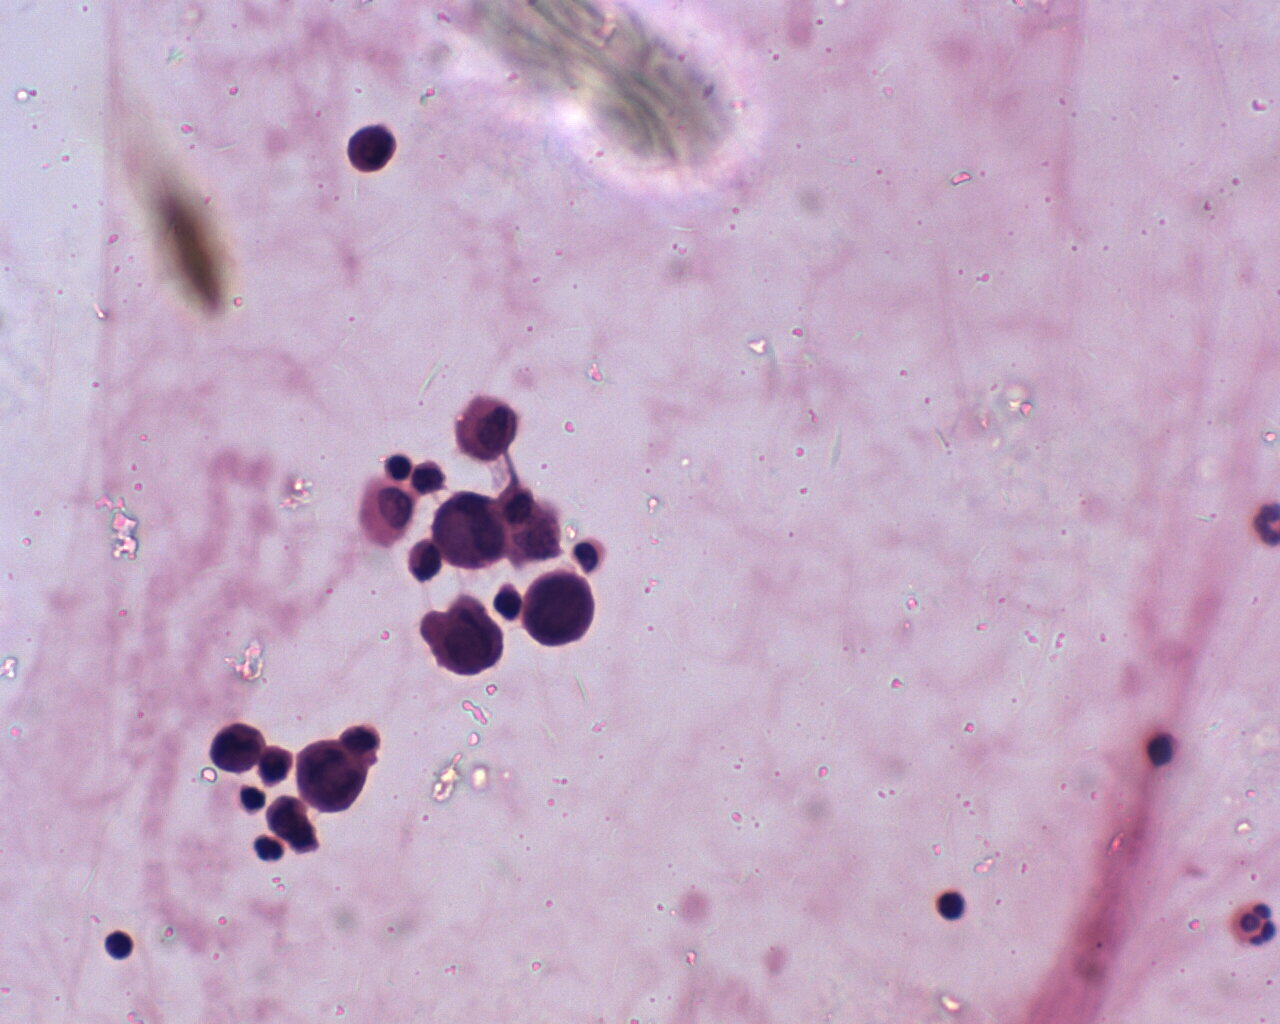ab: (421, 592, 504, 678), (516, 571, 600, 651), (290, 734, 371, 814), (433, 489, 507, 572), (453, 391, 523, 462)
lymph: (928, 886, 973, 925), (100, 921, 138, 965)
neutro: (1227, 894, 1277, 950)
